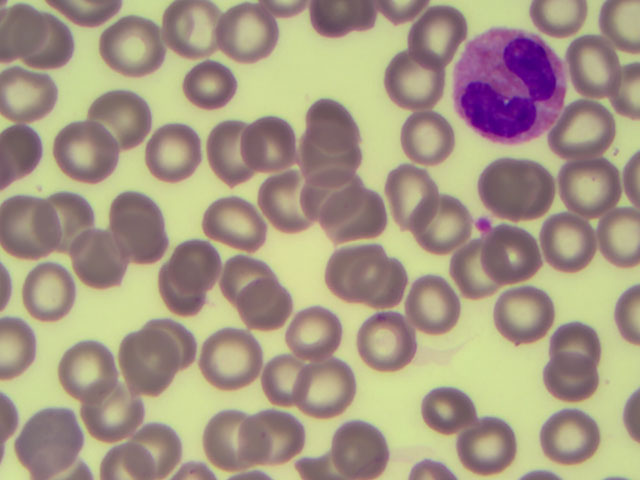Platelets: (470, 217, 496, 233)
RBC: (458, 416, 529, 480), (326, 416, 397, 480), (99, 14, 170, 77), (87, 82, 158, 145), (48, 115, 119, 178), (5, 12, 76, 75), (4, 58, 75, 121), (43, 186, 114, 249), (5, 192, 76, 255), (58, 234, 129, 297), (104, 185, 175, 248), (140, 117, 211, 180), (193, 119, 264, 182), (174, 58, 245, 121), (211, 3, 282, 66), (238, 110, 309, 173), (250, 171, 321, 234), (298, 84, 369, 147), (290, 130, 361, 193), (308, 162, 379, 225), (323, 184, 394, 247), (195, 194, 266, 257), (168, 218, 239, 281), (141, 251, 212, 314), (137, 309, 208, 372), (111, 332, 182, 395), (46, 334, 117, 397), (19, 258, 90, 321), (15, 409, 86, 472), (74, 388, 145, 451), (116, 416, 187, 479), (187, 405, 258, 468), (239, 408, 310, 471), (241, 348, 312, 411), (183, 320, 254, 383), (235, 273, 306, 336), (211, 249, 282, 312), (280, 293, 351, 356), (299, 367, 370, 430), (345, 313, 416, 376), (361, 253, 432, 316), (330, 232, 401, 295), (397, 270, 468, 333), (416, 201, 487, 264), (370, 163, 441, 226), (400, 105, 471, 168), (378, 47, 449, 110), (474, 148, 545, 211), (561, 152, 632, 215), (546, 108, 617, 171), (563, 38, 634, 101), (539, 214, 610, 277), (546, 312, 617, 375), (529, 347, 600, 410), (541, 395, 612, 458), (418, 376, 489, 439), (483, 288, 554, 351), (491, 227, 562, 290), (451, 240, 522, 303), (159, 1, 230, 63), (410, 1, 481, 63)
WBC: (453, 24, 566, 147)
